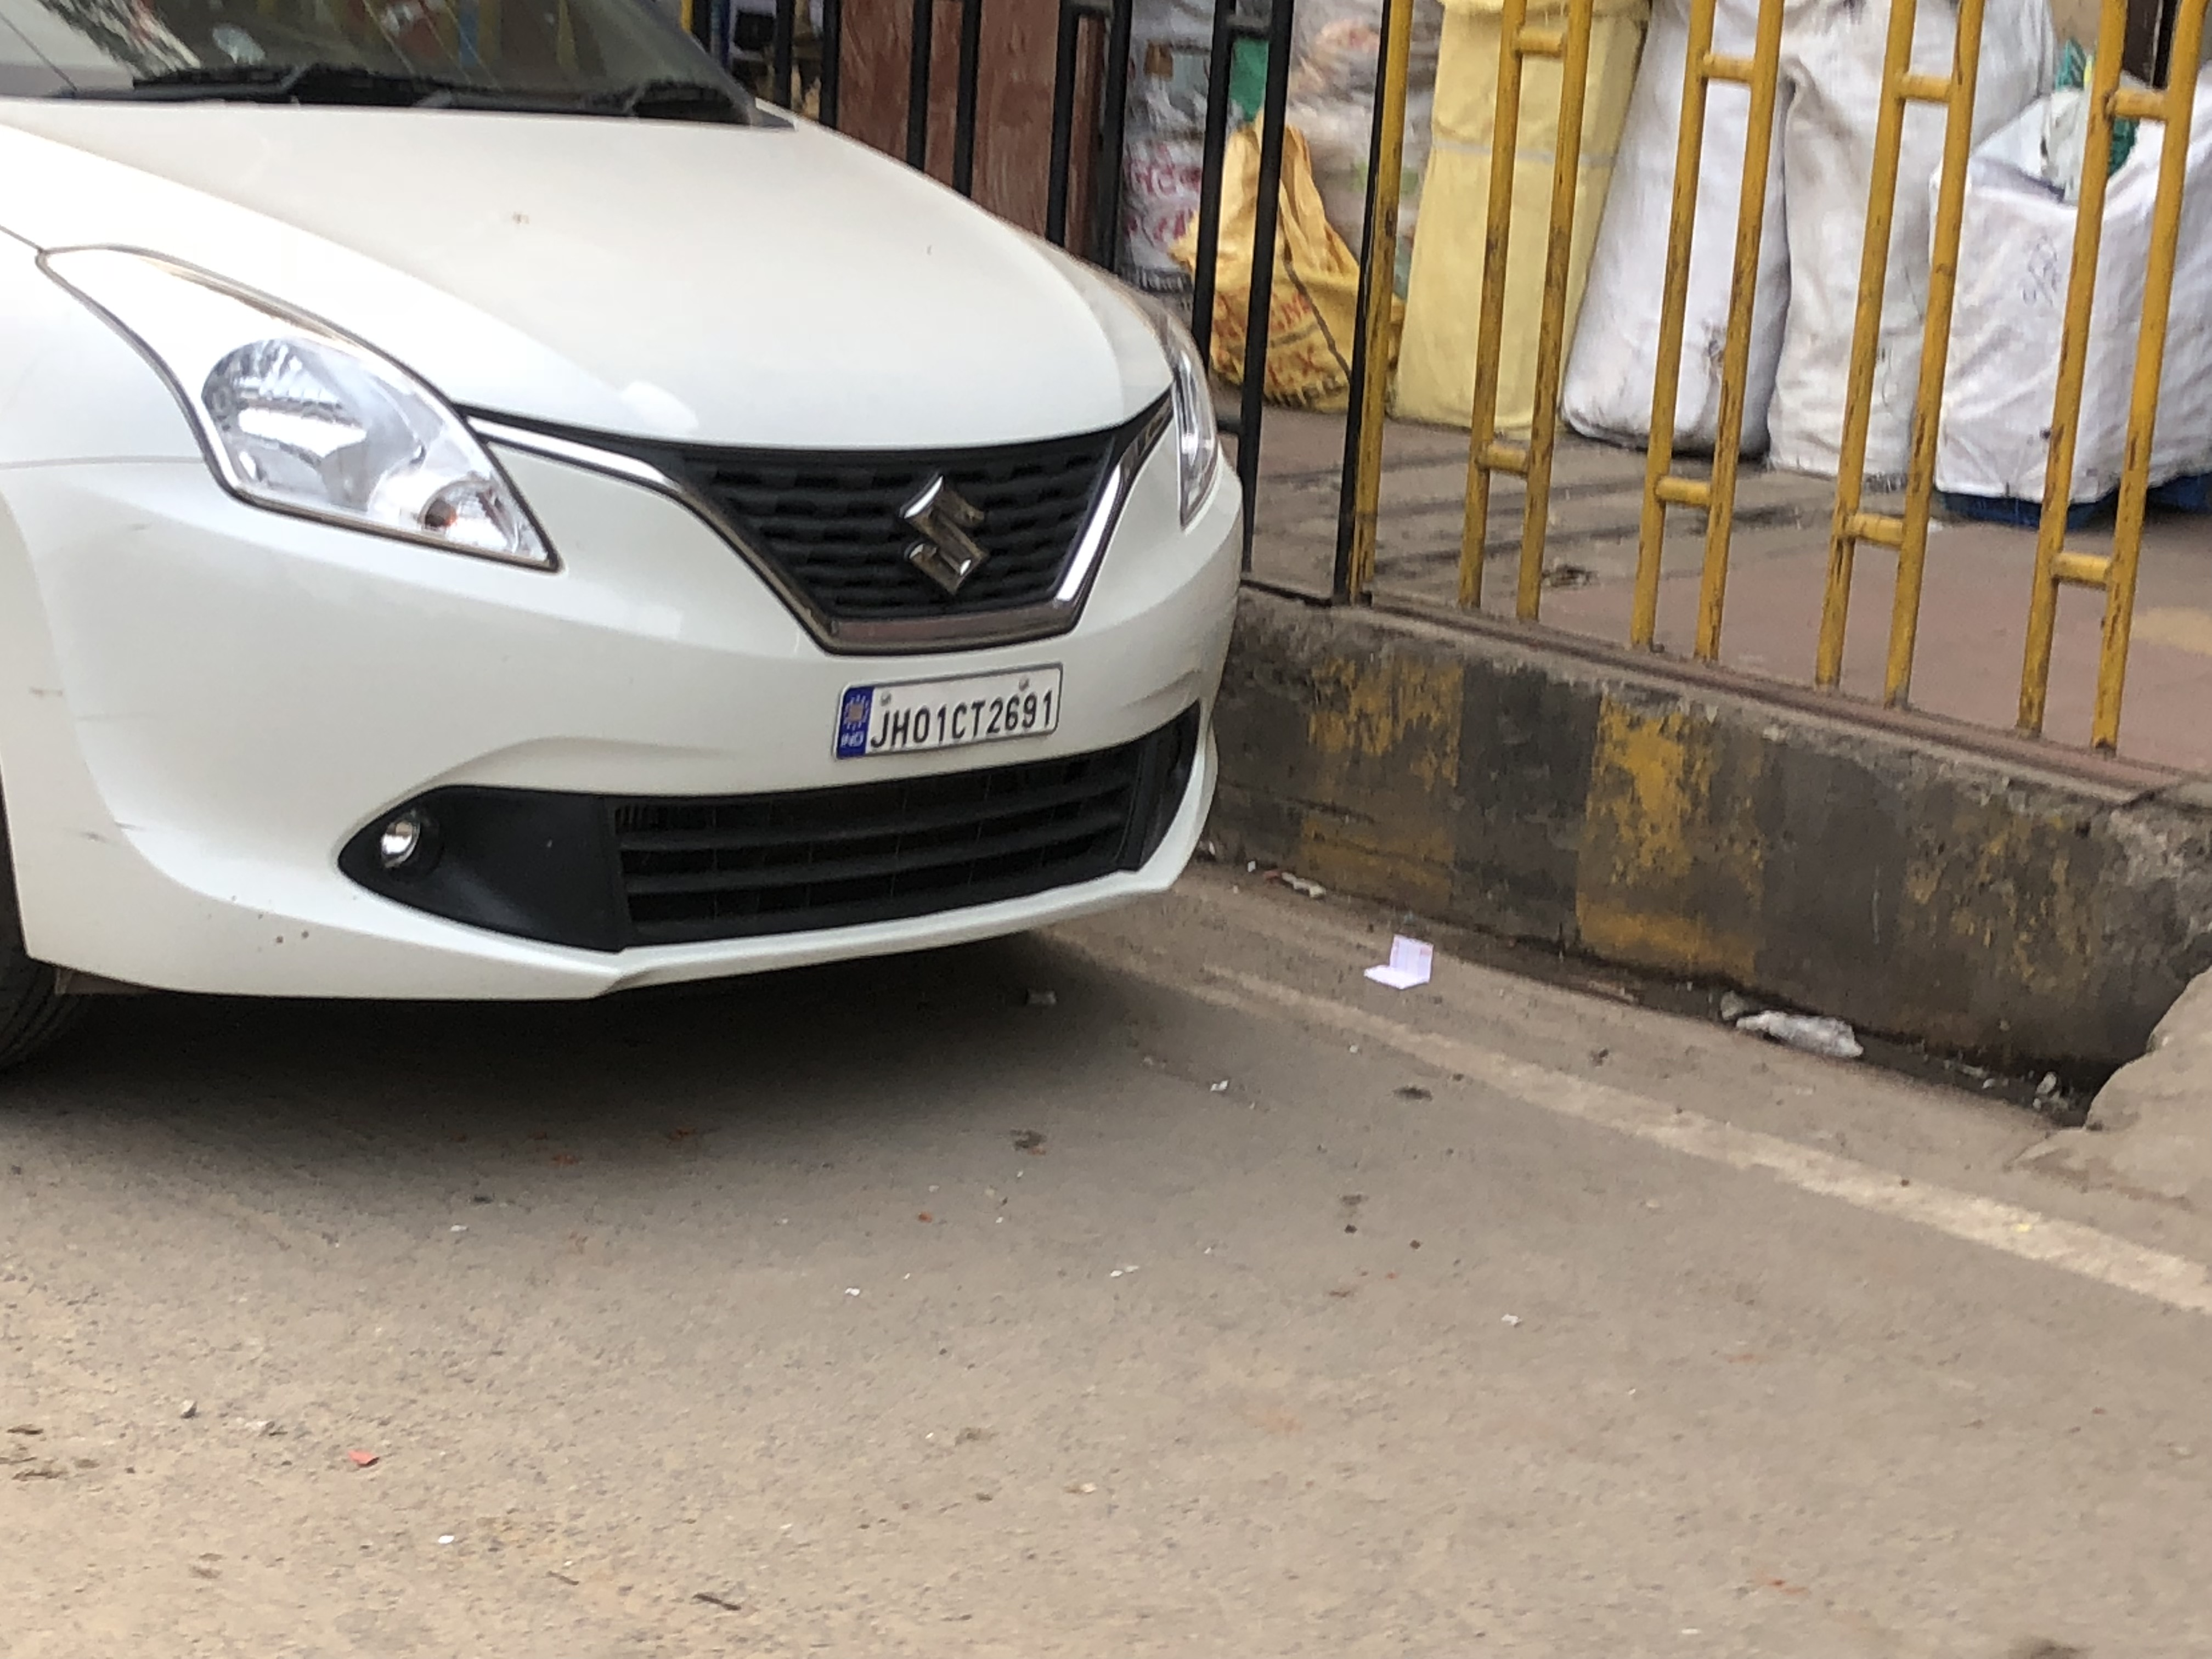licenseplate: (826, 656, 1075, 766)
